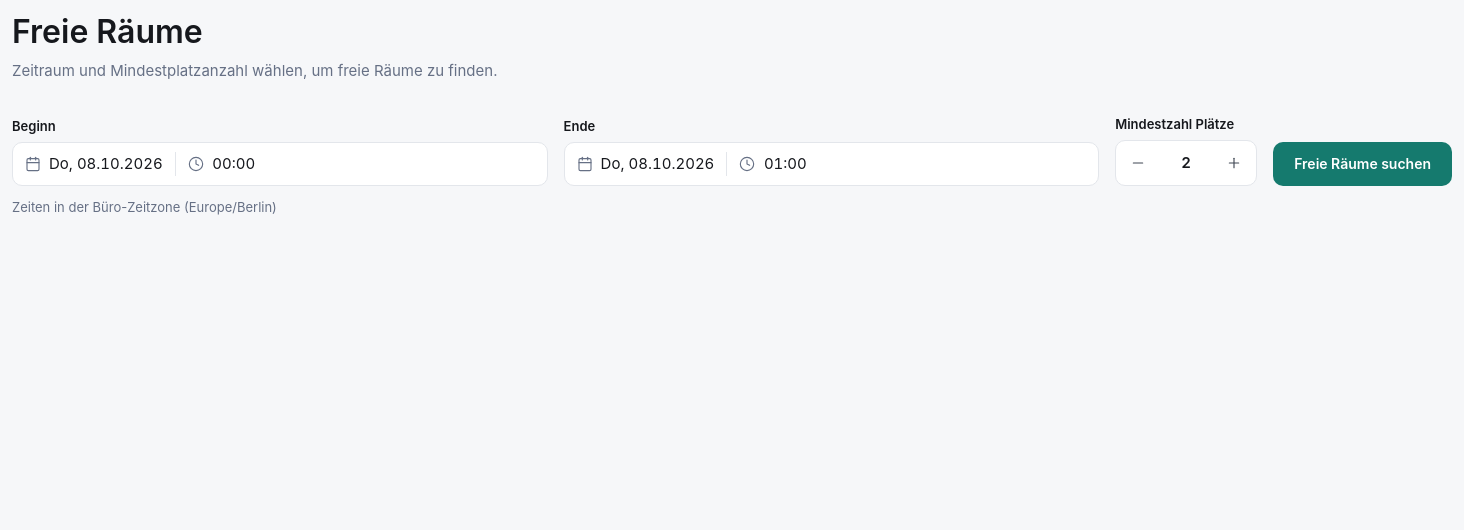
Test: FreeRoomsPage › requests free rooms for the chosen range and lists exactly the matches
The image size is (1464, 530).
Type "2026-03-11" into the date field with test id "free-rooms-start-date-input" at (280, 164), box [12,142,548,186]
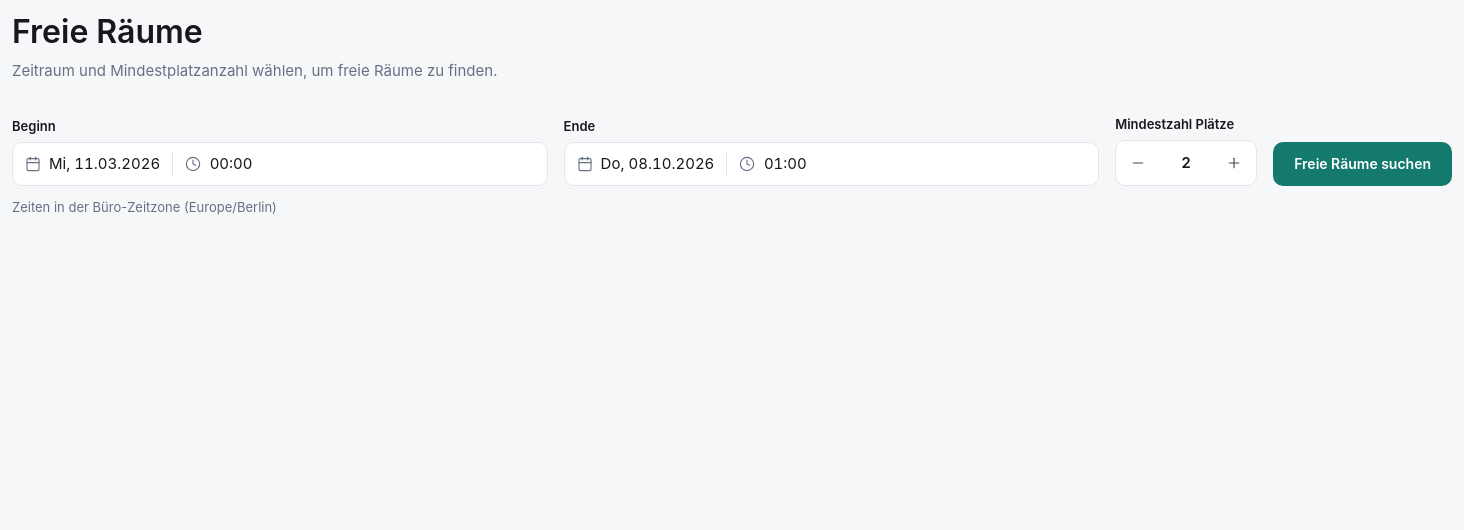
Replace the text in the time field with test id "free-rooms-start-time-input" with "09:00" at (280, 164), box [12,142,548,186]
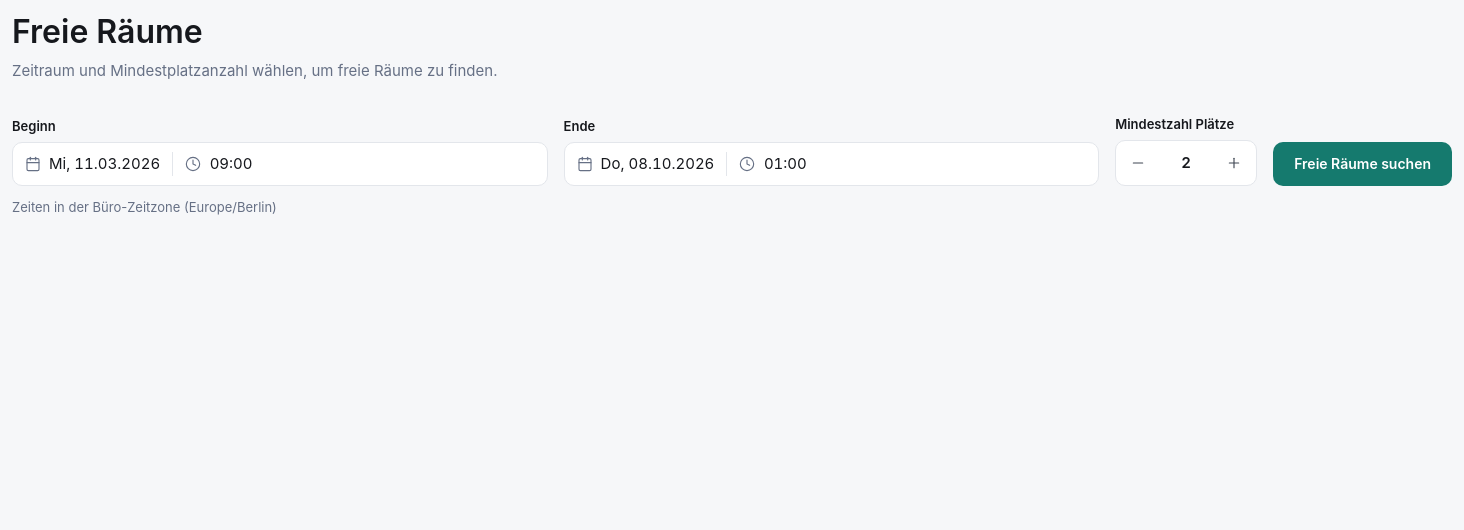
Type "2026-03-11" into the date field with test id "free-rooms-end-date-input" at (831, 164), box [564,142,1099,186]
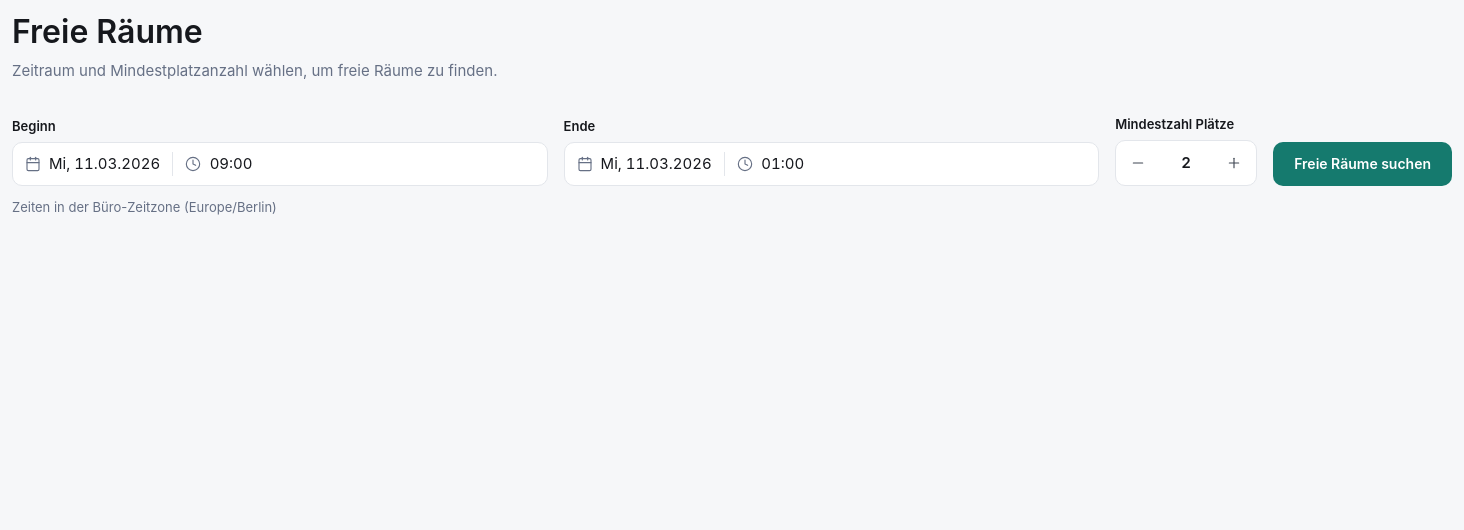
Replace the text in the time field with test id "free-rooms-end-time-input" with "10:00" at (831, 164), box [564,142,1099,186]
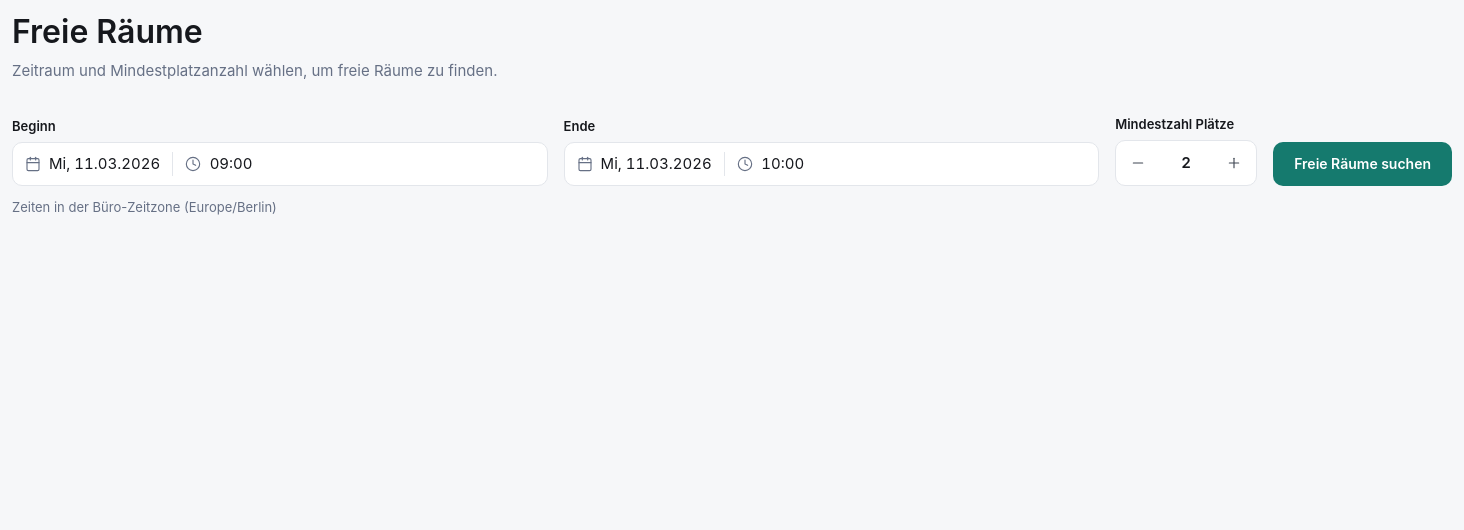
Click the button "Freie Räume suchen" at (1363, 164), box [1273,142,1452,186]
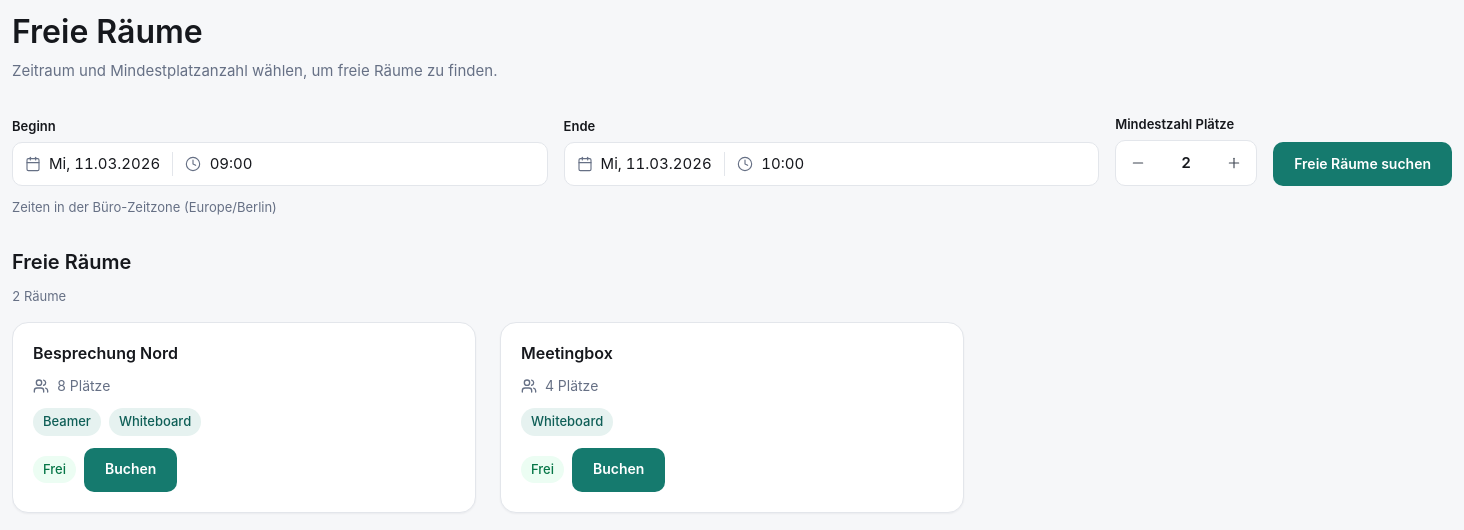
Result: the heading "Besprechung Nord" is shown at [33,343,178,363]
Result: the heading "Meetingbox" is shown at [521,343,613,363]
Result: the text "Frei" is shown 2 times at [33,456,76,483]; [521,456,564,483]
